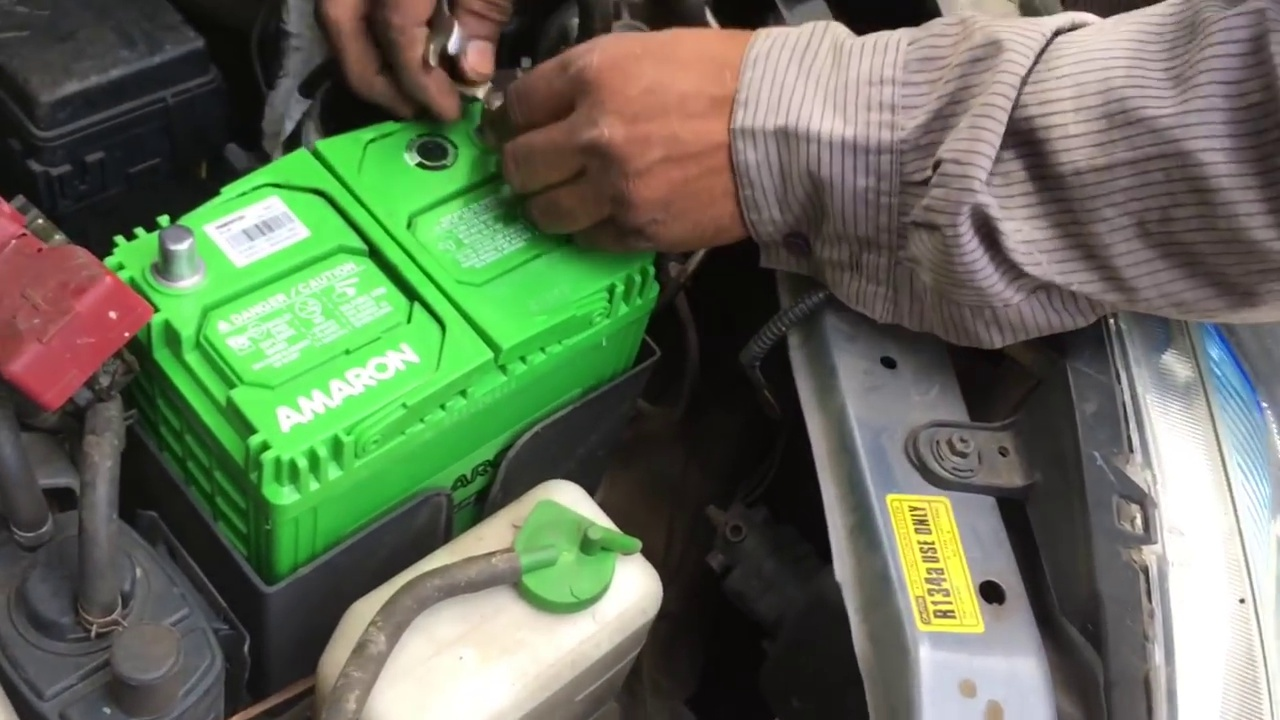battery: (82, 31, 680, 514)
pos_disconnected: (3, 187, 212, 396)
